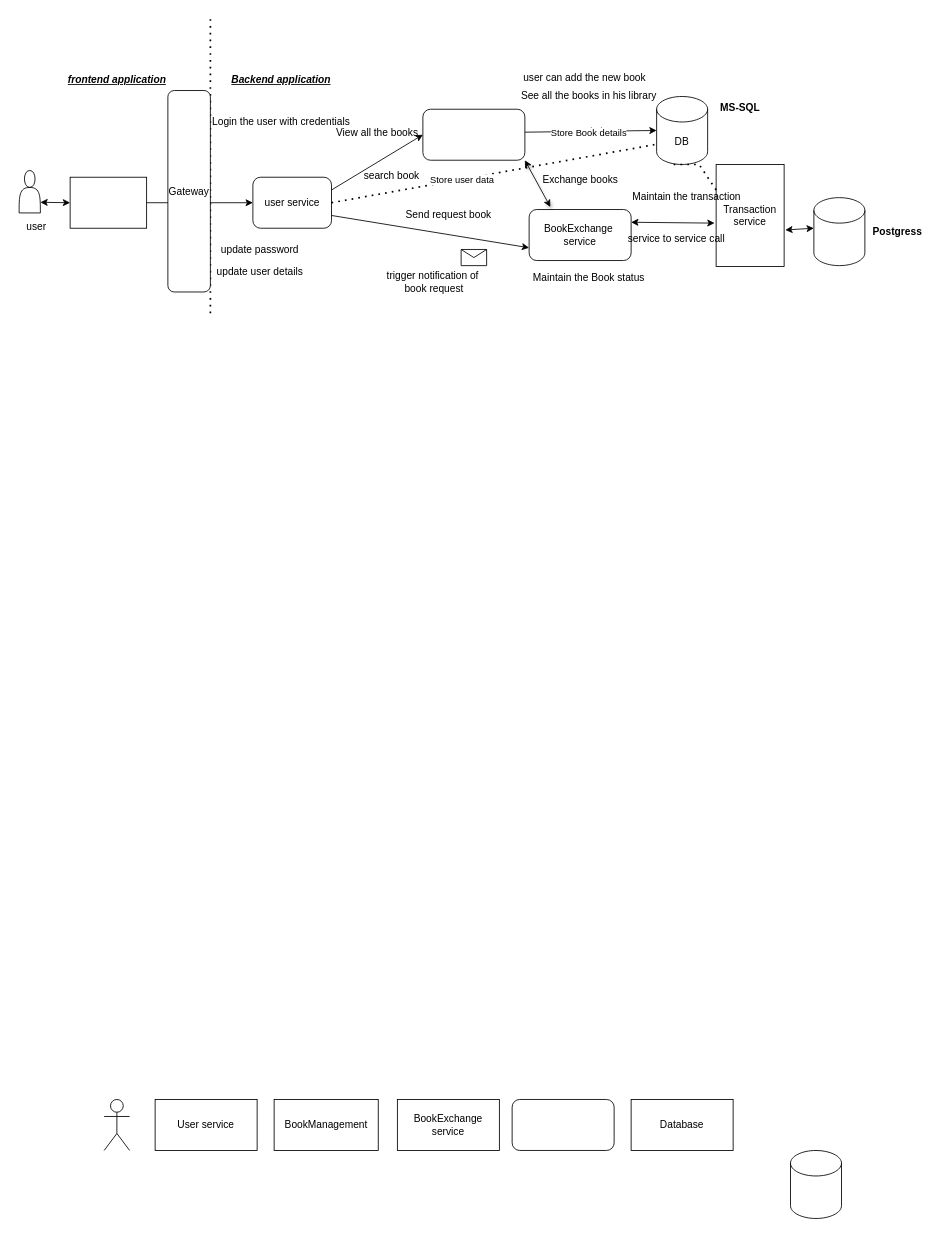
Image size: 943x1233. Some labels were removed from this diagram. Each missing label, with the centre of its shape:
Actor: the point at 116,1124
Book service: the point at 473,134
Frontend/ React Application: the point at 108,202
Notification service: the point at 562,1124
Transaction: the point at 839,231
